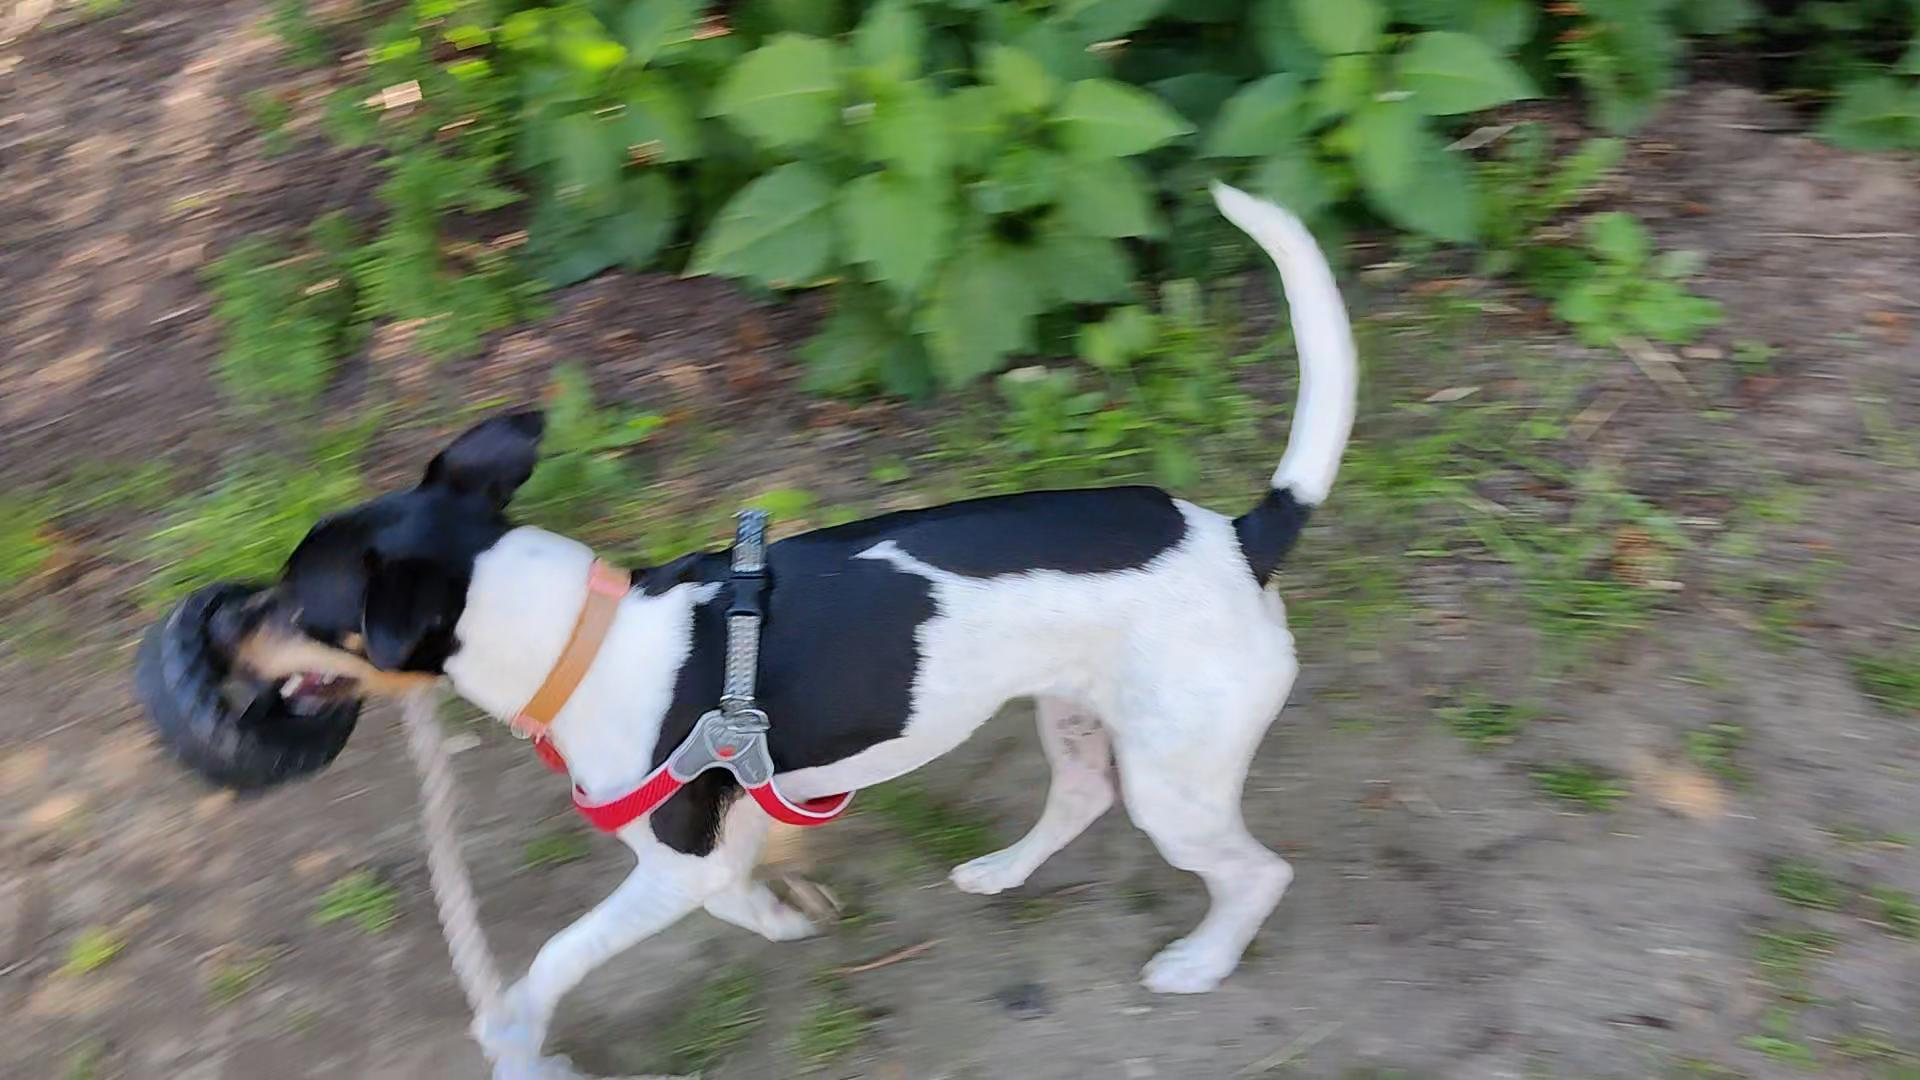Dog: (196, 173, 1391, 1048)
